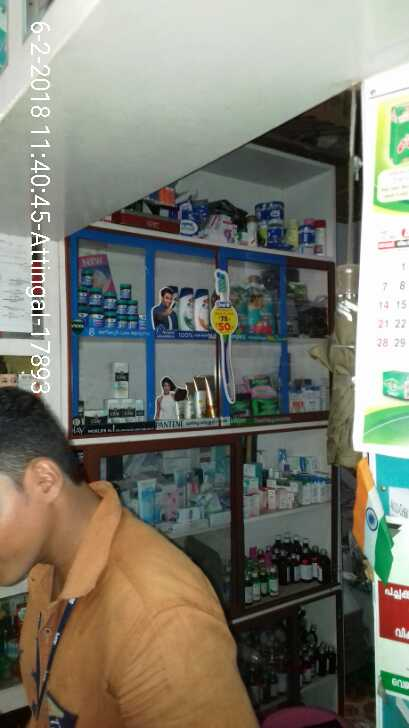vicks: (76, 277, 143, 327)
